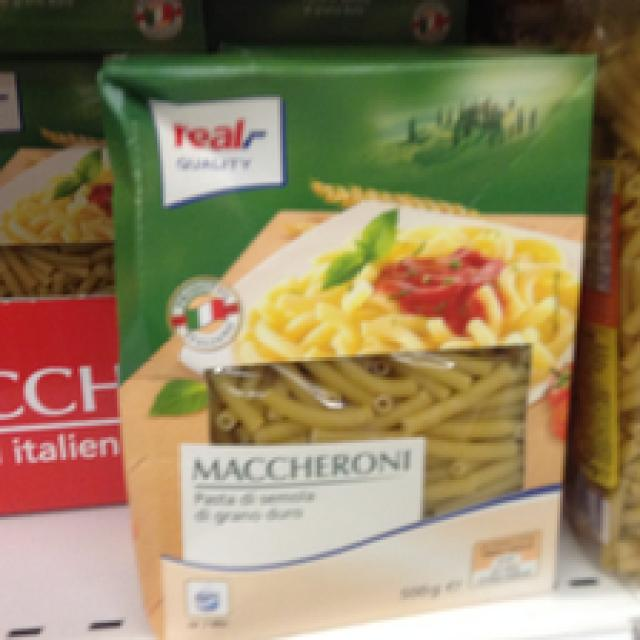groceries: (92, 52, 597, 637)
